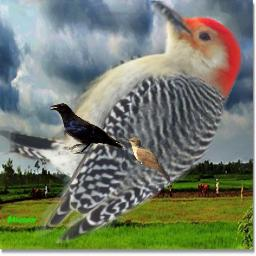Crow: (50, 103, 124, 154)
Cuckoo: (125, 137, 170, 181)
Woodpecker: (0, 1, 243, 243)
